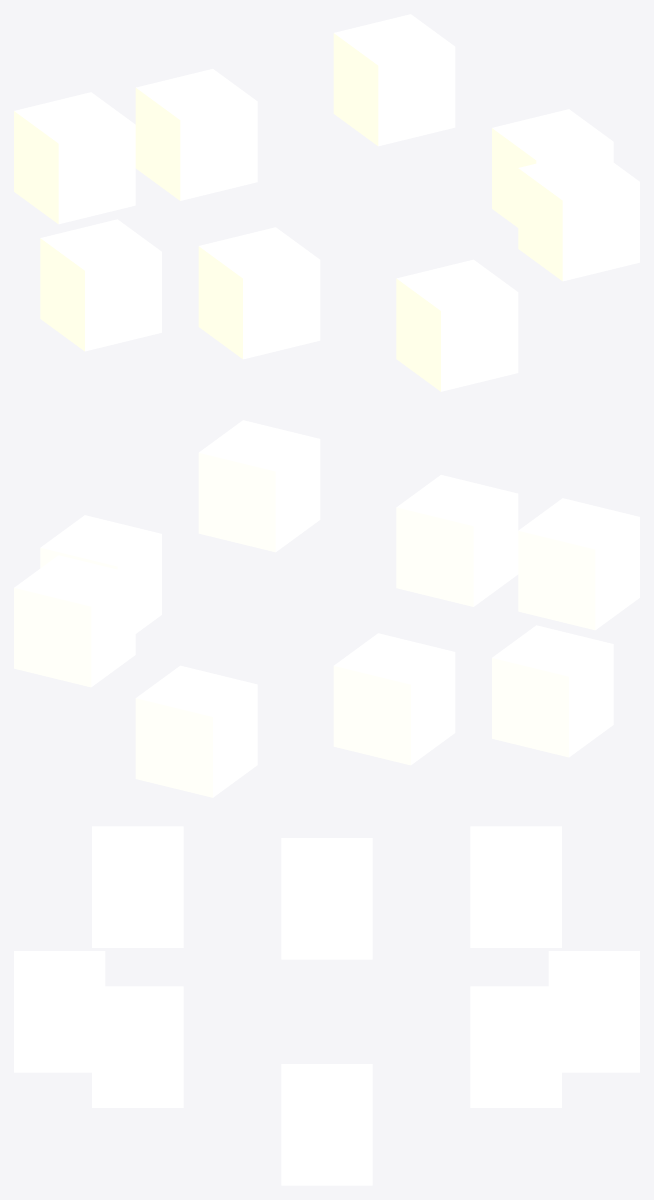
The model's file is puff.glb.
3 views of the same model, one above another, from view 1: azimuth 30°, elevation 25°; view 2: azimuth 150°, elevation 25°; view 3: azimuth 270°, elevation 25° (orthographic). The views are drawn at different scales.
Parts seen in each view (by area): view 1: Puff; view 2: Puff; view 3: Puff.
Part boxes in pixels (x1,y1,x2,y2): Puff: (14, 14, 639, 391); Puff: (14, 420, 639, 797); Puff: (14, 826, 639, 1185).
Size of the model in its own units: 0.89 by 0.2 by 0.89.
